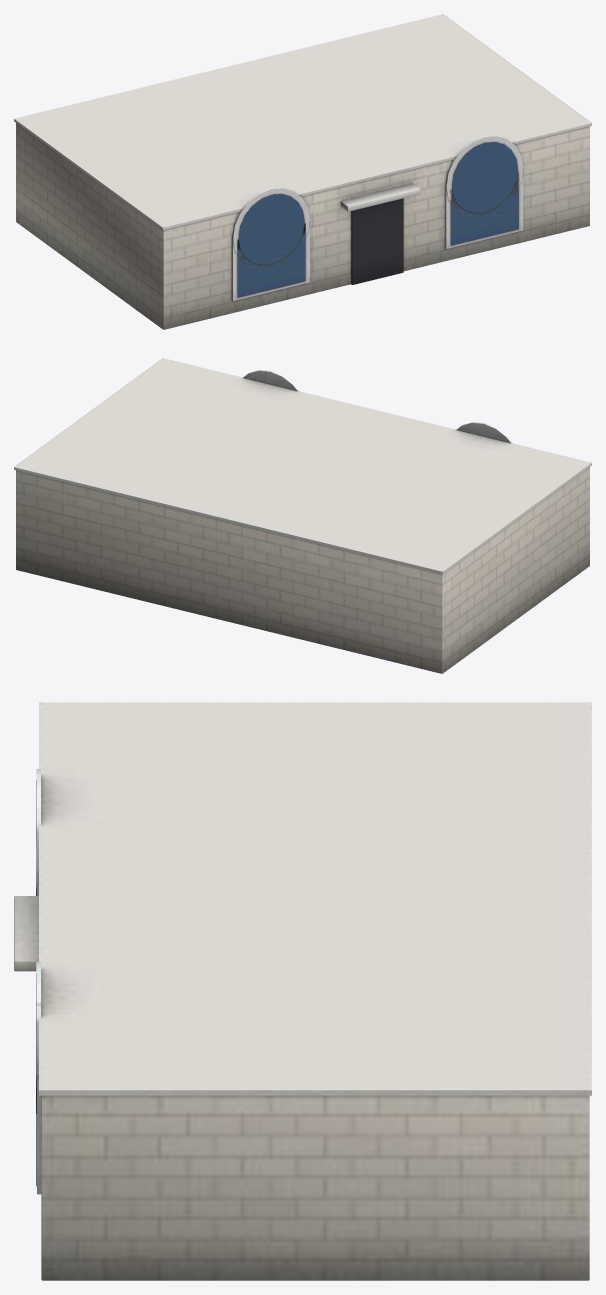
The model's file is bajo_banco.glb.
The picture shows the model from 3 angles, top to bottom: view 1: azimuth 30°, elevation 25°; view 2: azimuth 150°, elevation 25°; view 3: azimuth 270°, elevation 25°; orthographic projection. The views are drawn at different scales.
Parts seen in each view (by area): view 1: bajo_banco; view 2: bajo_banco; view 3: bajo_banco.
Part boxes in pixels (box(x1,y1,x2,y2)): bajo_banco: box(14, 14, 591, 329); bajo_banco: box(14, 358, 591, 673); bajo_banco: box(14, 702, 591, 1280).
Size of the model in its own units: 20.1 by 5.2 by 12.65.
1 material, 1 textured.
